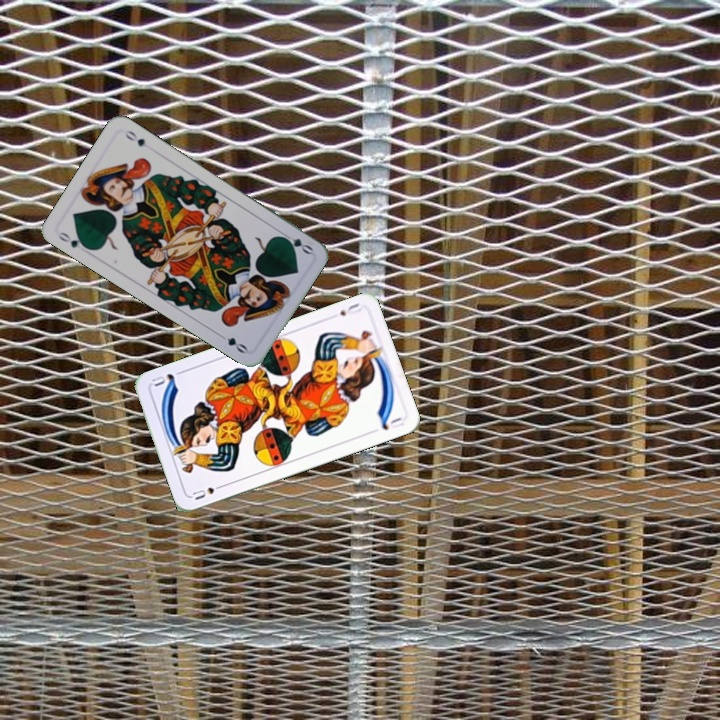GO: (276, 228, 315, 257), (54, 227, 92, 252)
SU: (188, 480, 227, 503), (335, 299, 364, 319)
